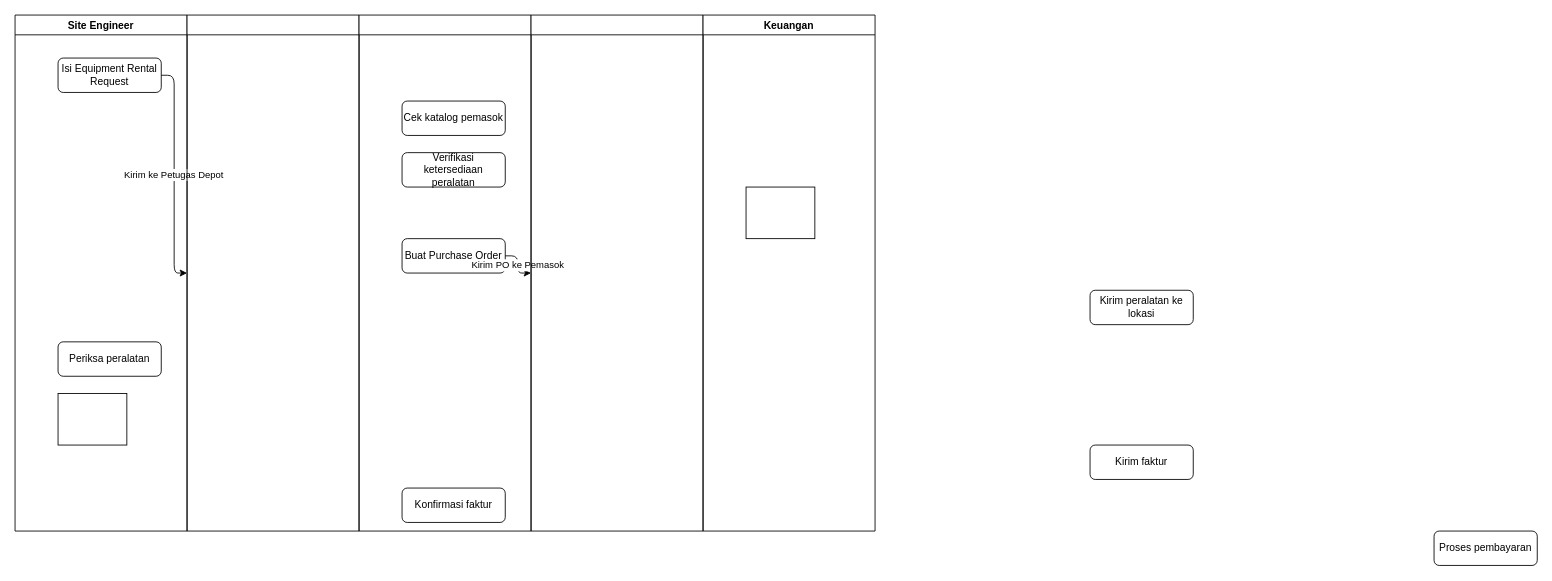
This 1552x581 diagram has some shape labels left out. Each missing label, with the box of its shape:
Pemasok: (530, 14, 703, 531)
Perpanjangan sewa?: (57, 393, 127, 445)
Petugas Depot: (186, 14, 359, 531)
Setujui permintaan?: (745, 186, 815, 239)
Works Engineer: (358, 14, 531, 531)
